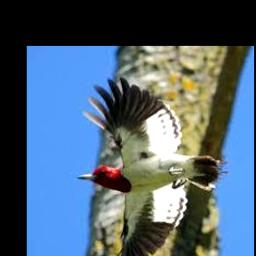Woodpecker: (77, 78, 227, 256)
